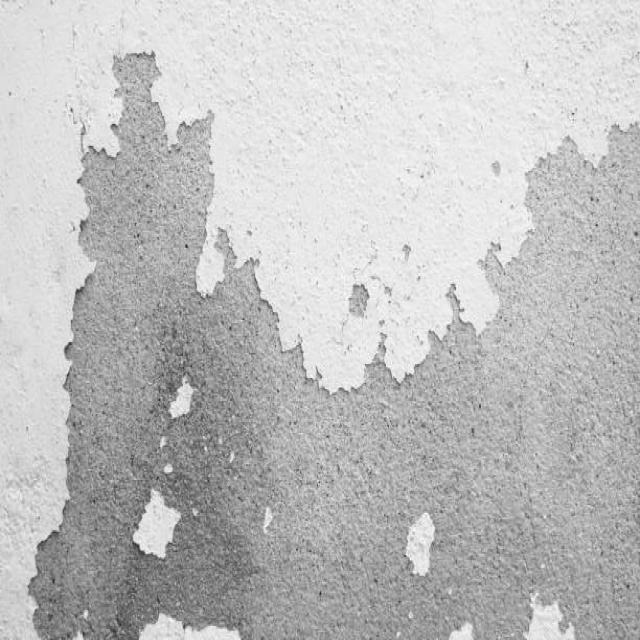peeling paint: (21, 30, 640, 640)
